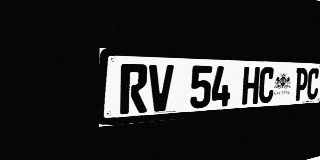4: (211, 66, 232, 107)
5: (190, 65, 212, 109)
C: (258, 67, 275, 104), (306, 68, 320, 100)
H: (242, 67, 260, 105)
P: (294, 68, 309, 101)
R: (120, 64, 148, 114)
V: (148, 64, 174, 112)
